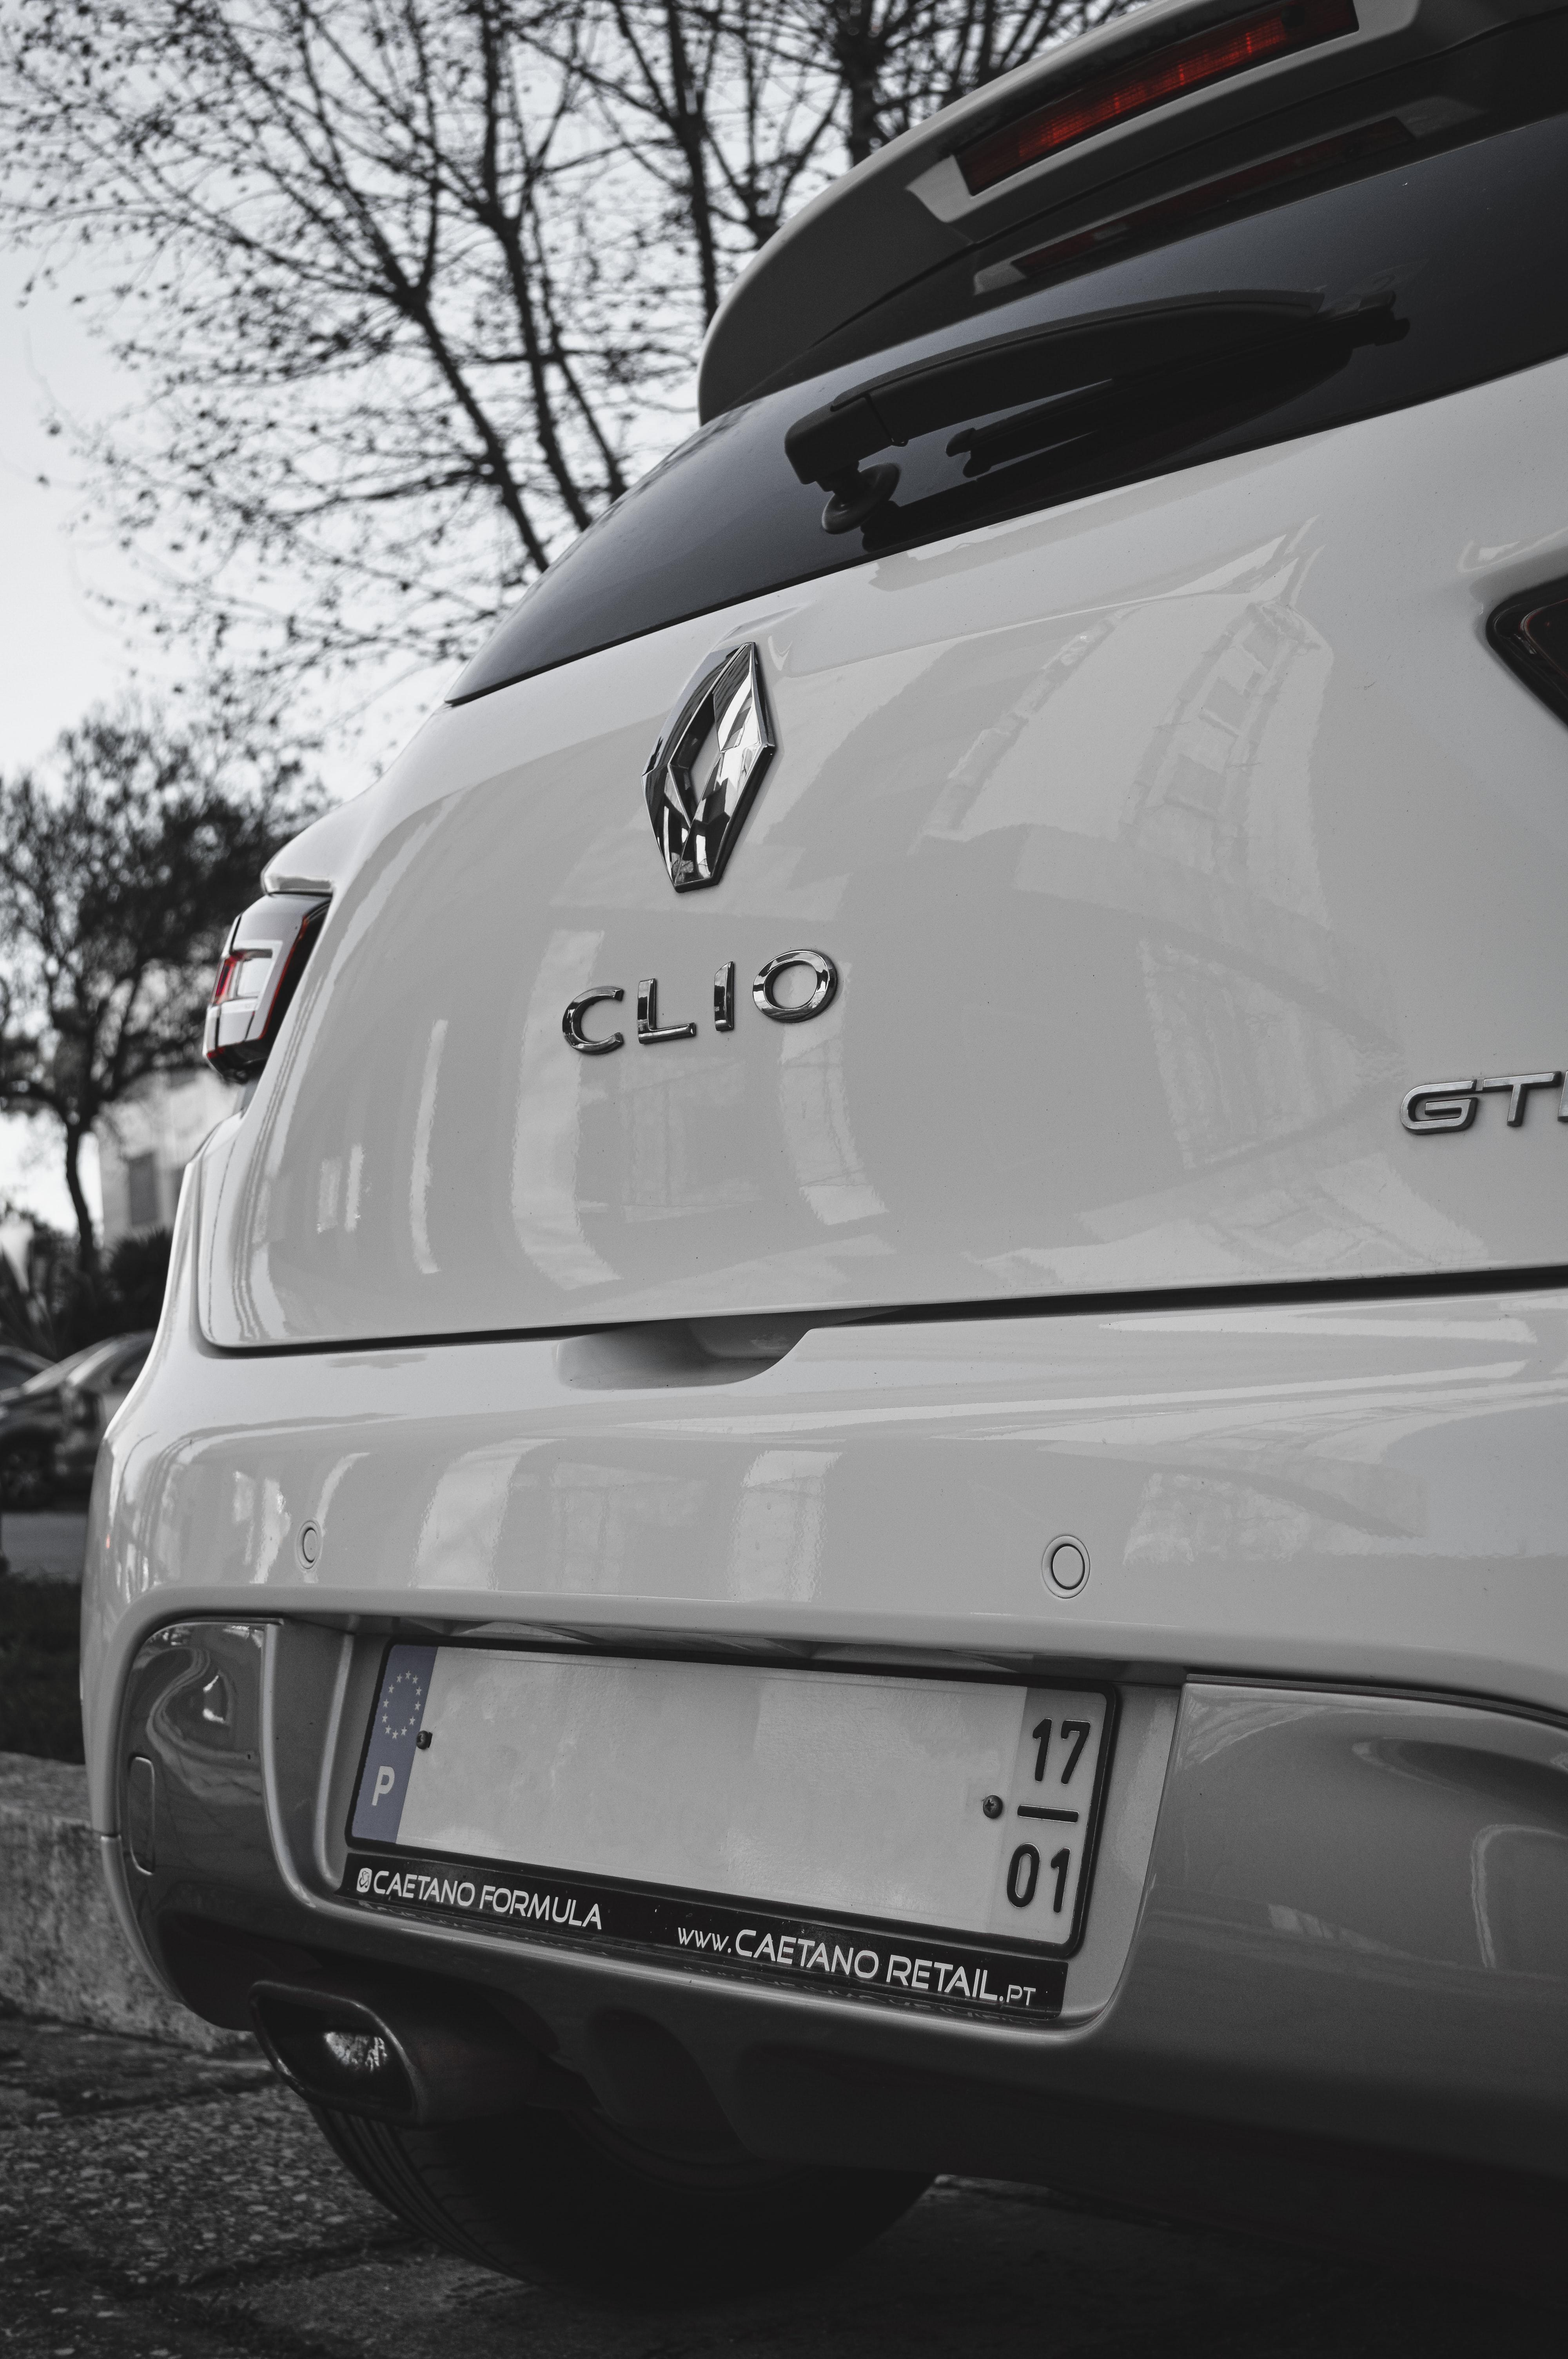Renault: (625, 620, 793, 926)
